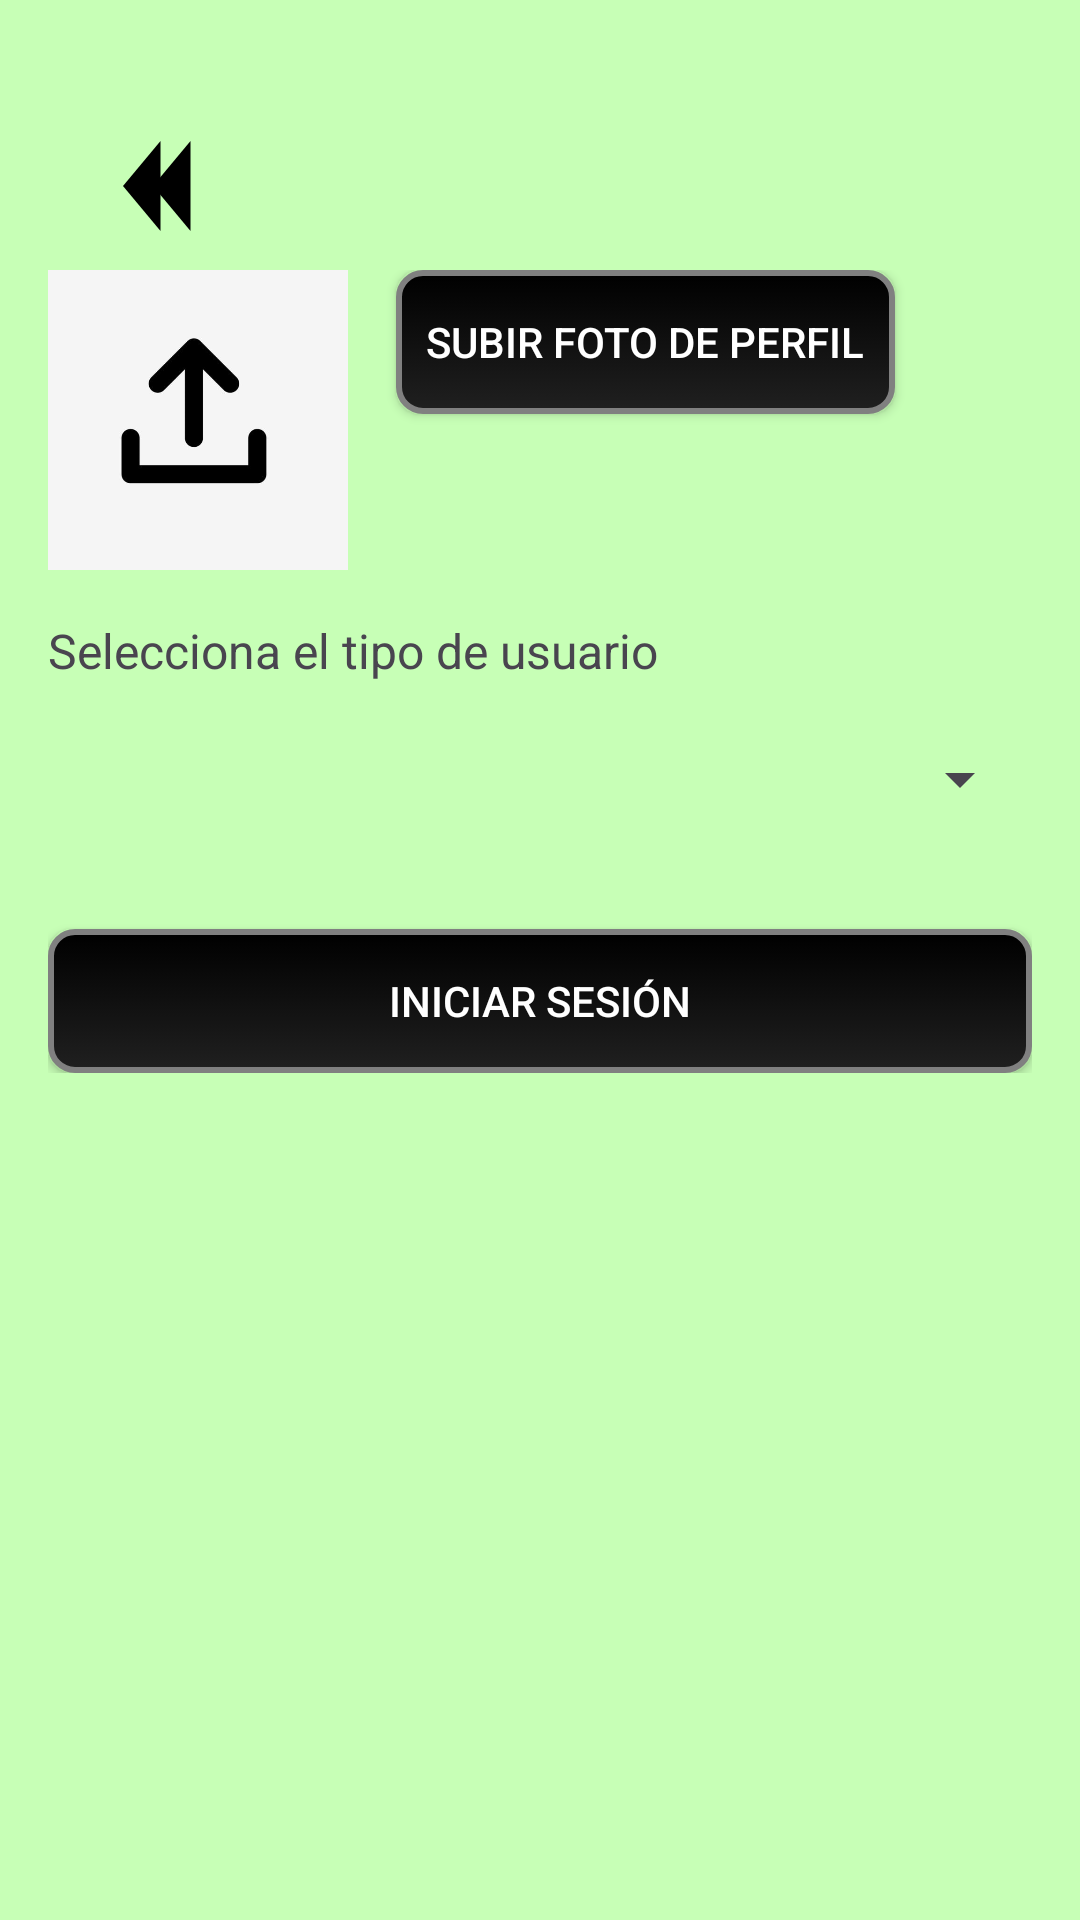

Icon click points for this 1080w x 1920h phone screenshot, format [x,y]:
Volver atrás: [157,186]
